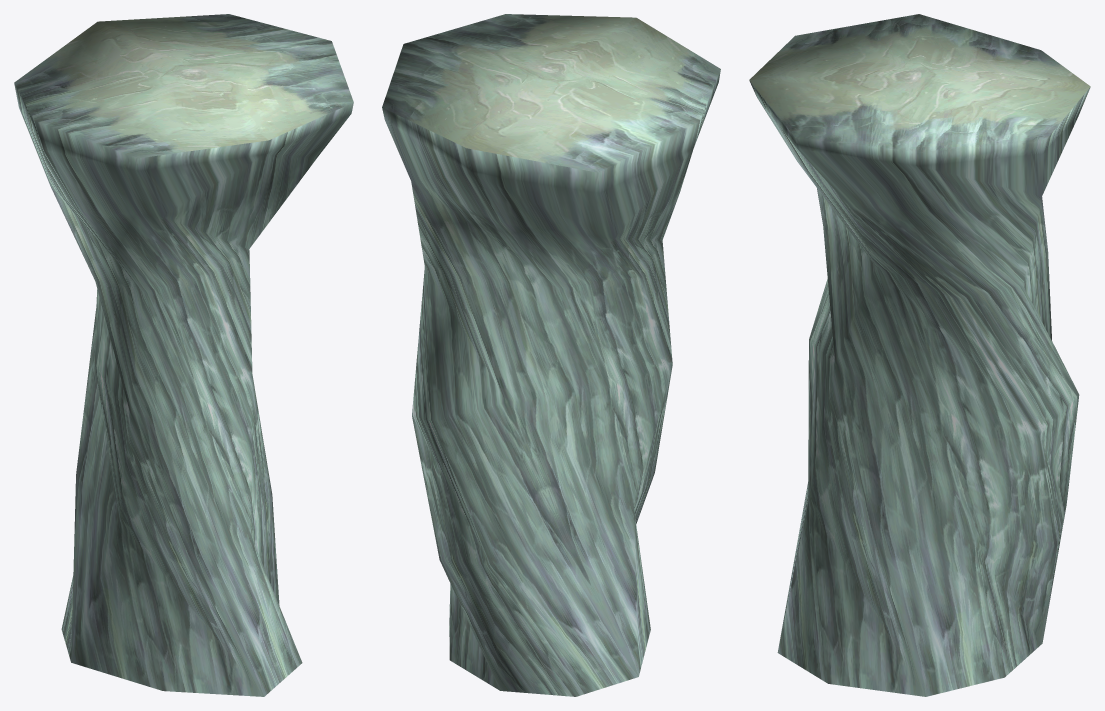
The model's file is TROLLHOLE02_WATER PLATFORM G.fbx.
3 views of the same model, side by side, from view 1: azimuth 30°, elevation 25°; view 2: azimuth 150°, elevation 25°; view 3: azimuth 270°, elevation 25° (orthographic).
Visible parts, largest first — view 1: TROLLHOLE02_WATER PLATFORM G; view 2: TROLLHOLE02_WATER PLATFORM G; view 3: TROLLHOLE02_WATER PLATFORM G.
Part boxes in pixels (x1=…): TROLLHOLE02_WATER PLATFORM G: x1=14, y1=14, x2=353, y2=696; TROLLHOLE02_WATER PLATFORM G: x1=382, y1=14, x2=720, y2=696; TROLLHOLE02_WATER PLATFORM G: x1=749, y1=14, x2=1090, y2=696.
Size of the model in its own units: 23566 by 43580 by 23453.
Materials: 2 (2 with a texture image).
